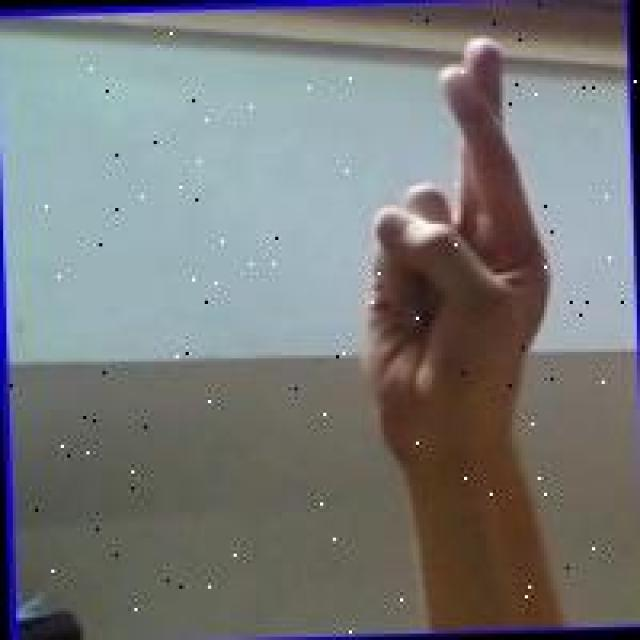R: (354, 34, 555, 462)
